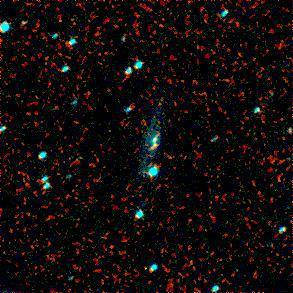star: (141, 131, 171, 161)
